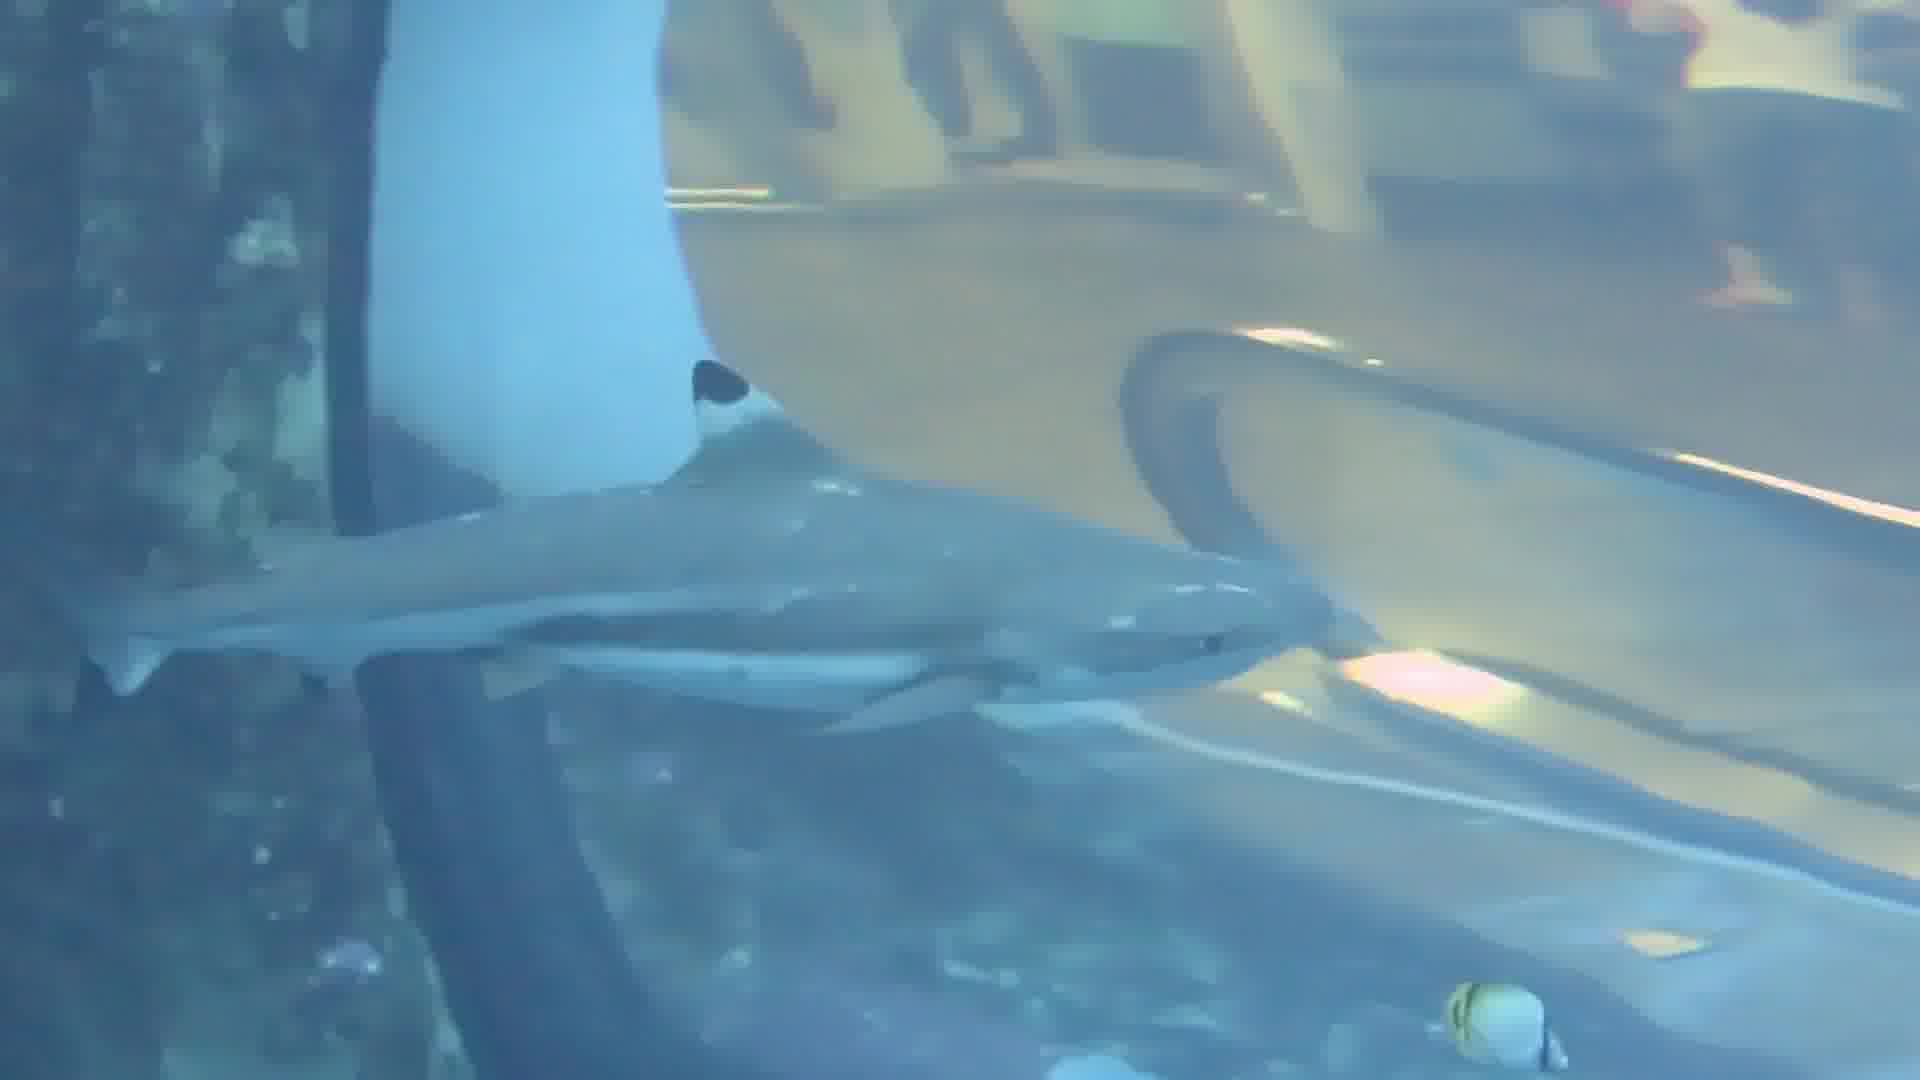Carcharhinus melanopterus: (13, 316, 1391, 779)
